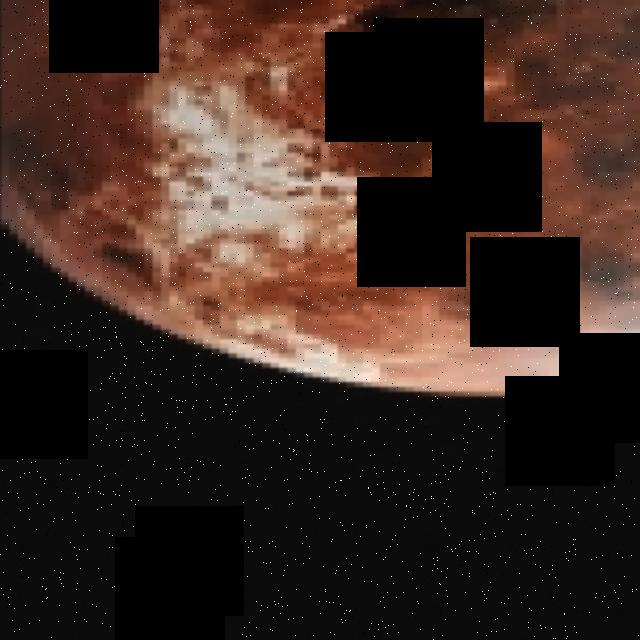Venus: (0, 0, 640, 401)
